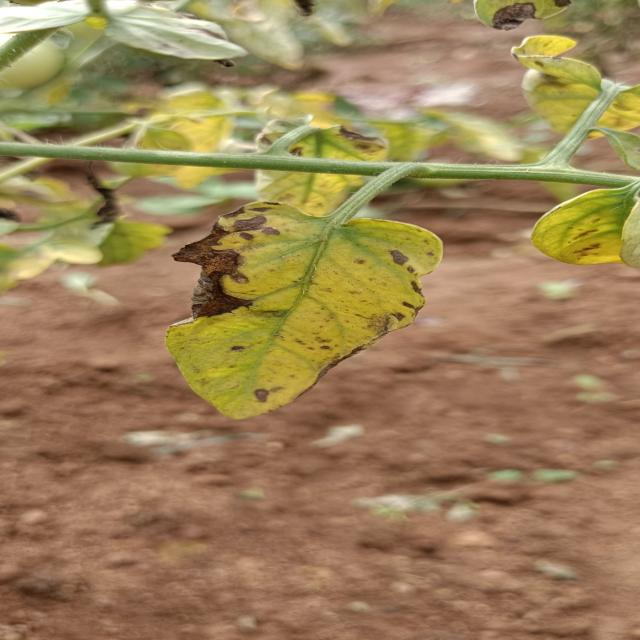tomato_early blight: (175, 209, 431, 422), (502, 32, 640, 137), (0, 193, 155, 285), (245, 124, 395, 216), (521, 174, 640, 264), (116, 105, 239, 177)
